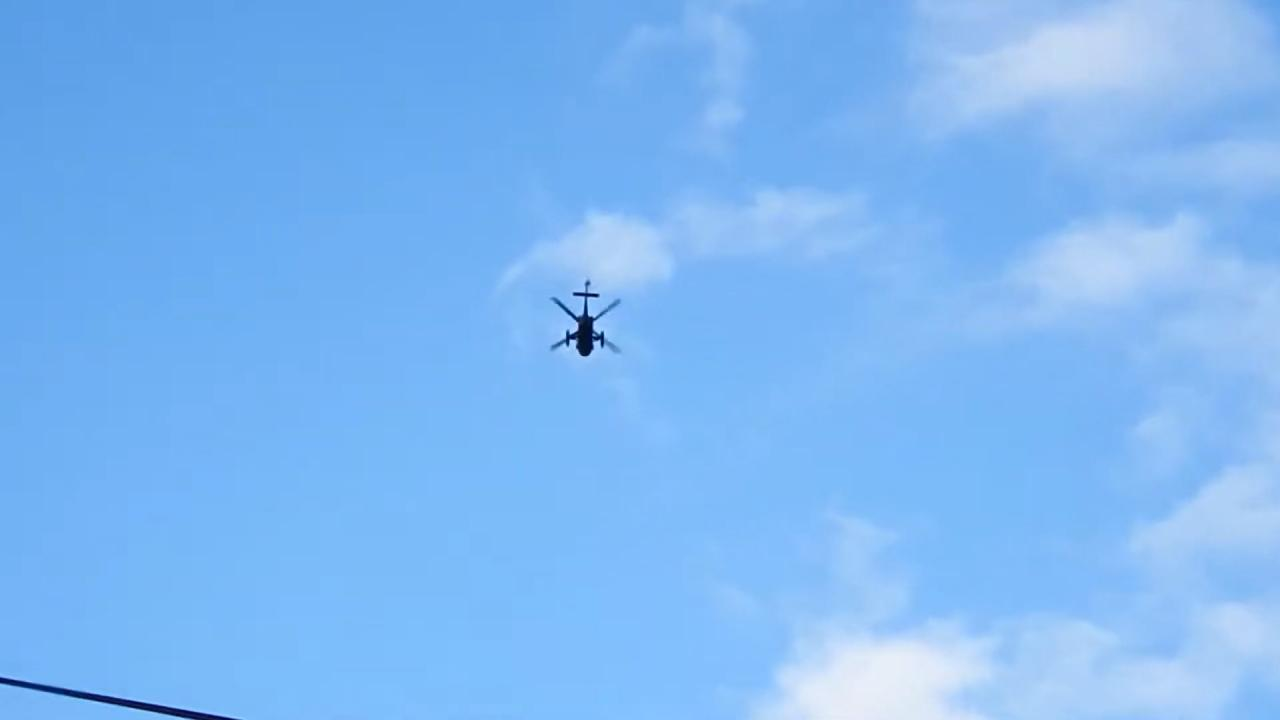Helicopter: (501, 259, 668, 384)
